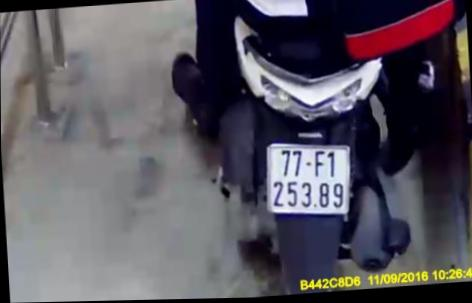LP: (262, 137, 355, 224)
